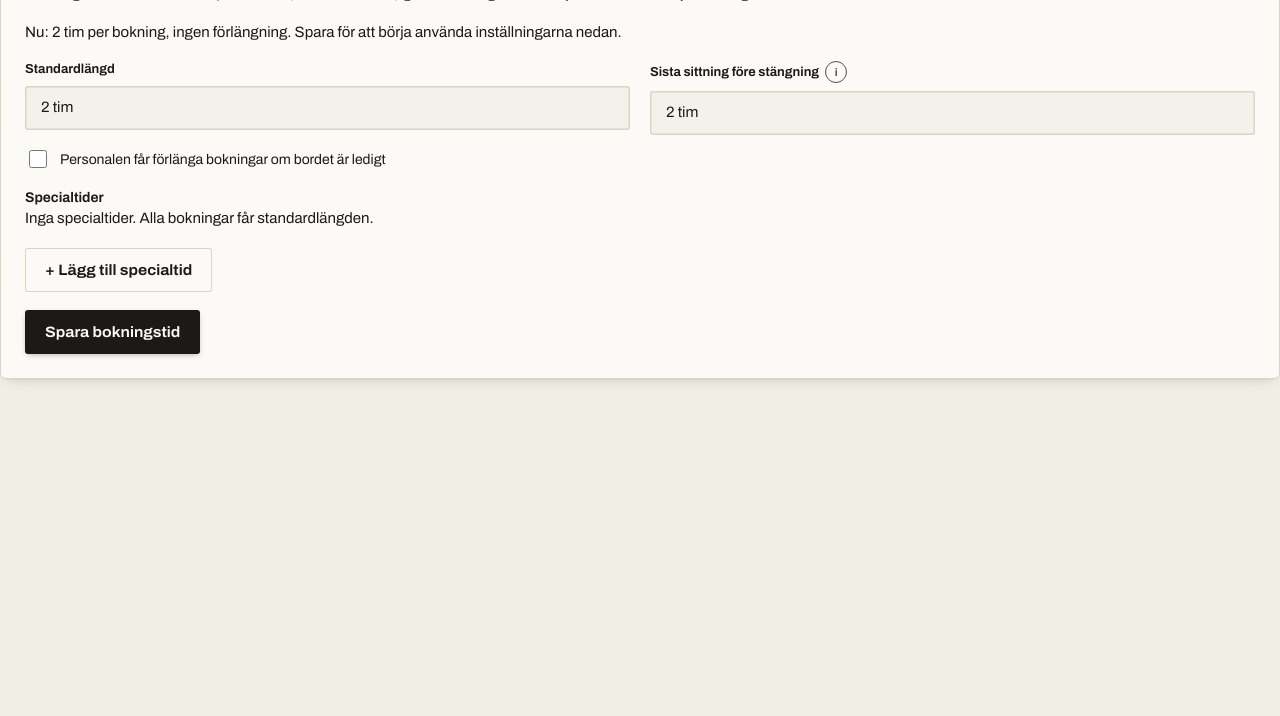
BookingTimeCard › refuses overlapping windows with the same priority before saving
Expected: the text "Nu: 2 tim" is shown, [25, 24, 622, 40]
Step 1. Click the button "+ Lägg till specialtid" → (119, 270), box [25, 248, 212, 292]
(page scrolled)
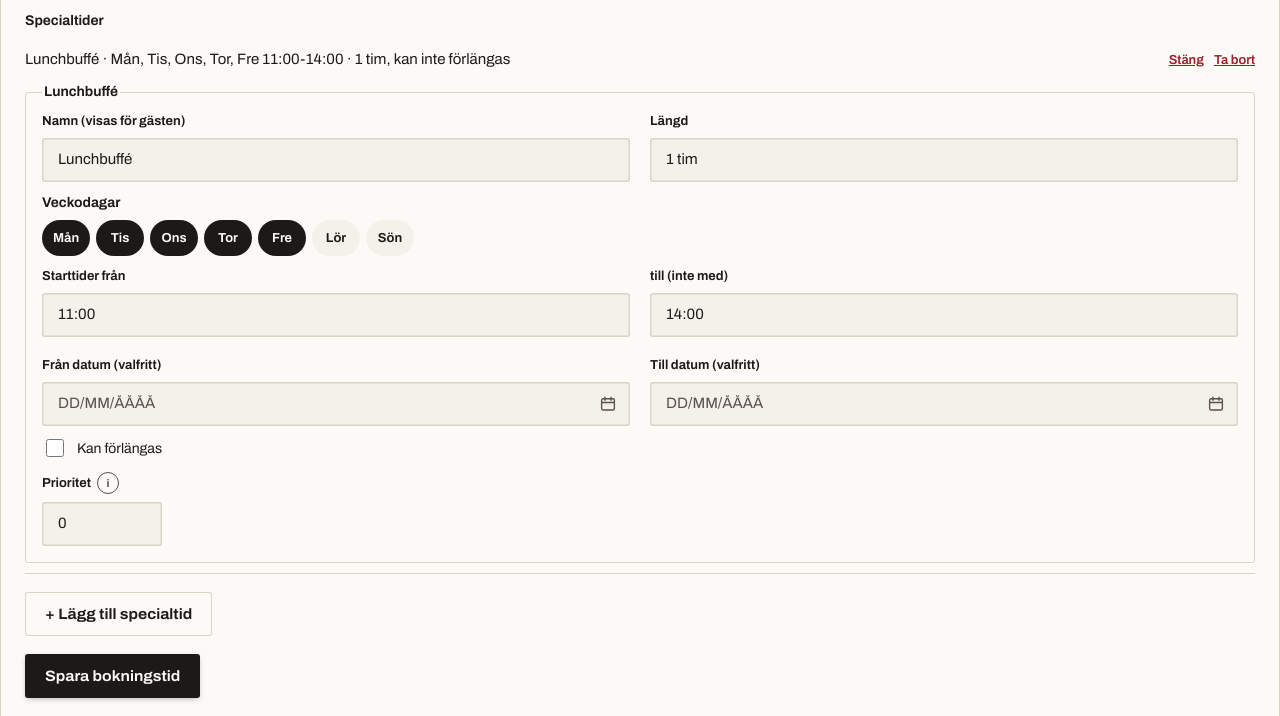
Step 2. Click the button "+ Lägg till specialtid" → (119, 614), box [25, 592, 212, 636]
(page scrolled)
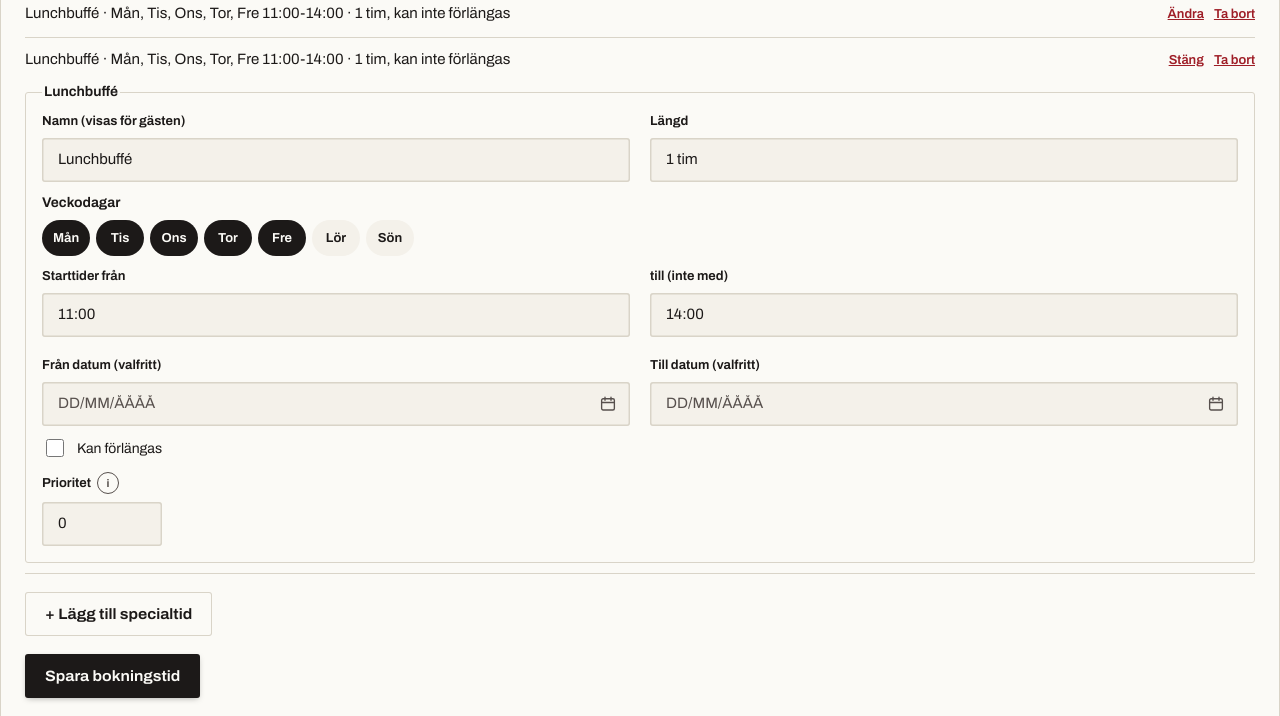
Step 3. Click the button "Spara bokningstid" → (113, 676), box [25, 654, 200, 698]
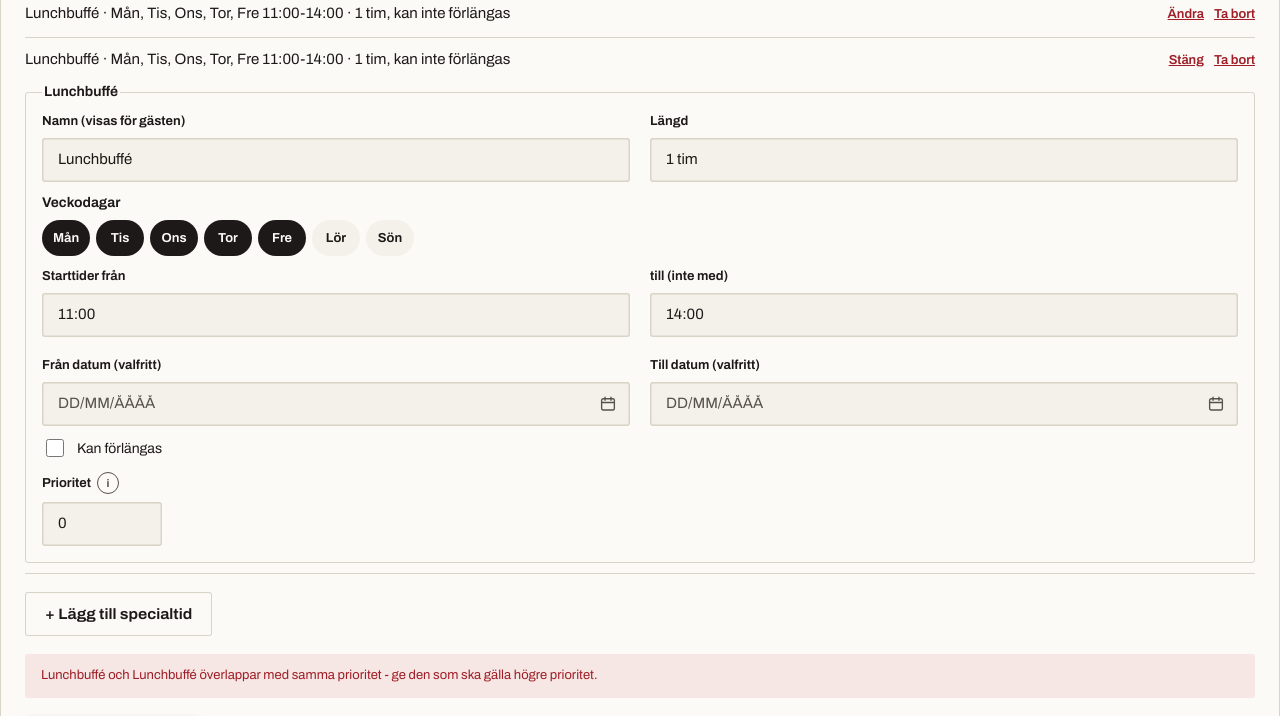
Now the message shows "samma prioritet", box [41, 668, 598, 682]
